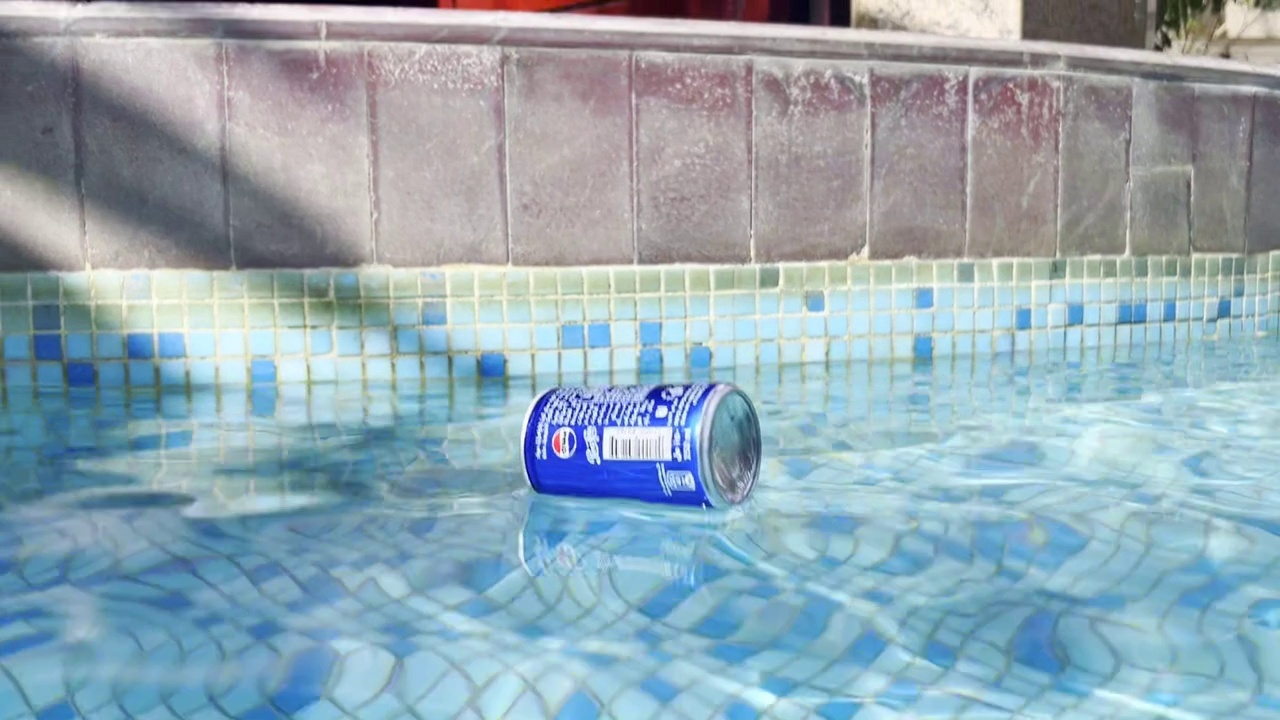debris: (515, 376, 767, 515)
